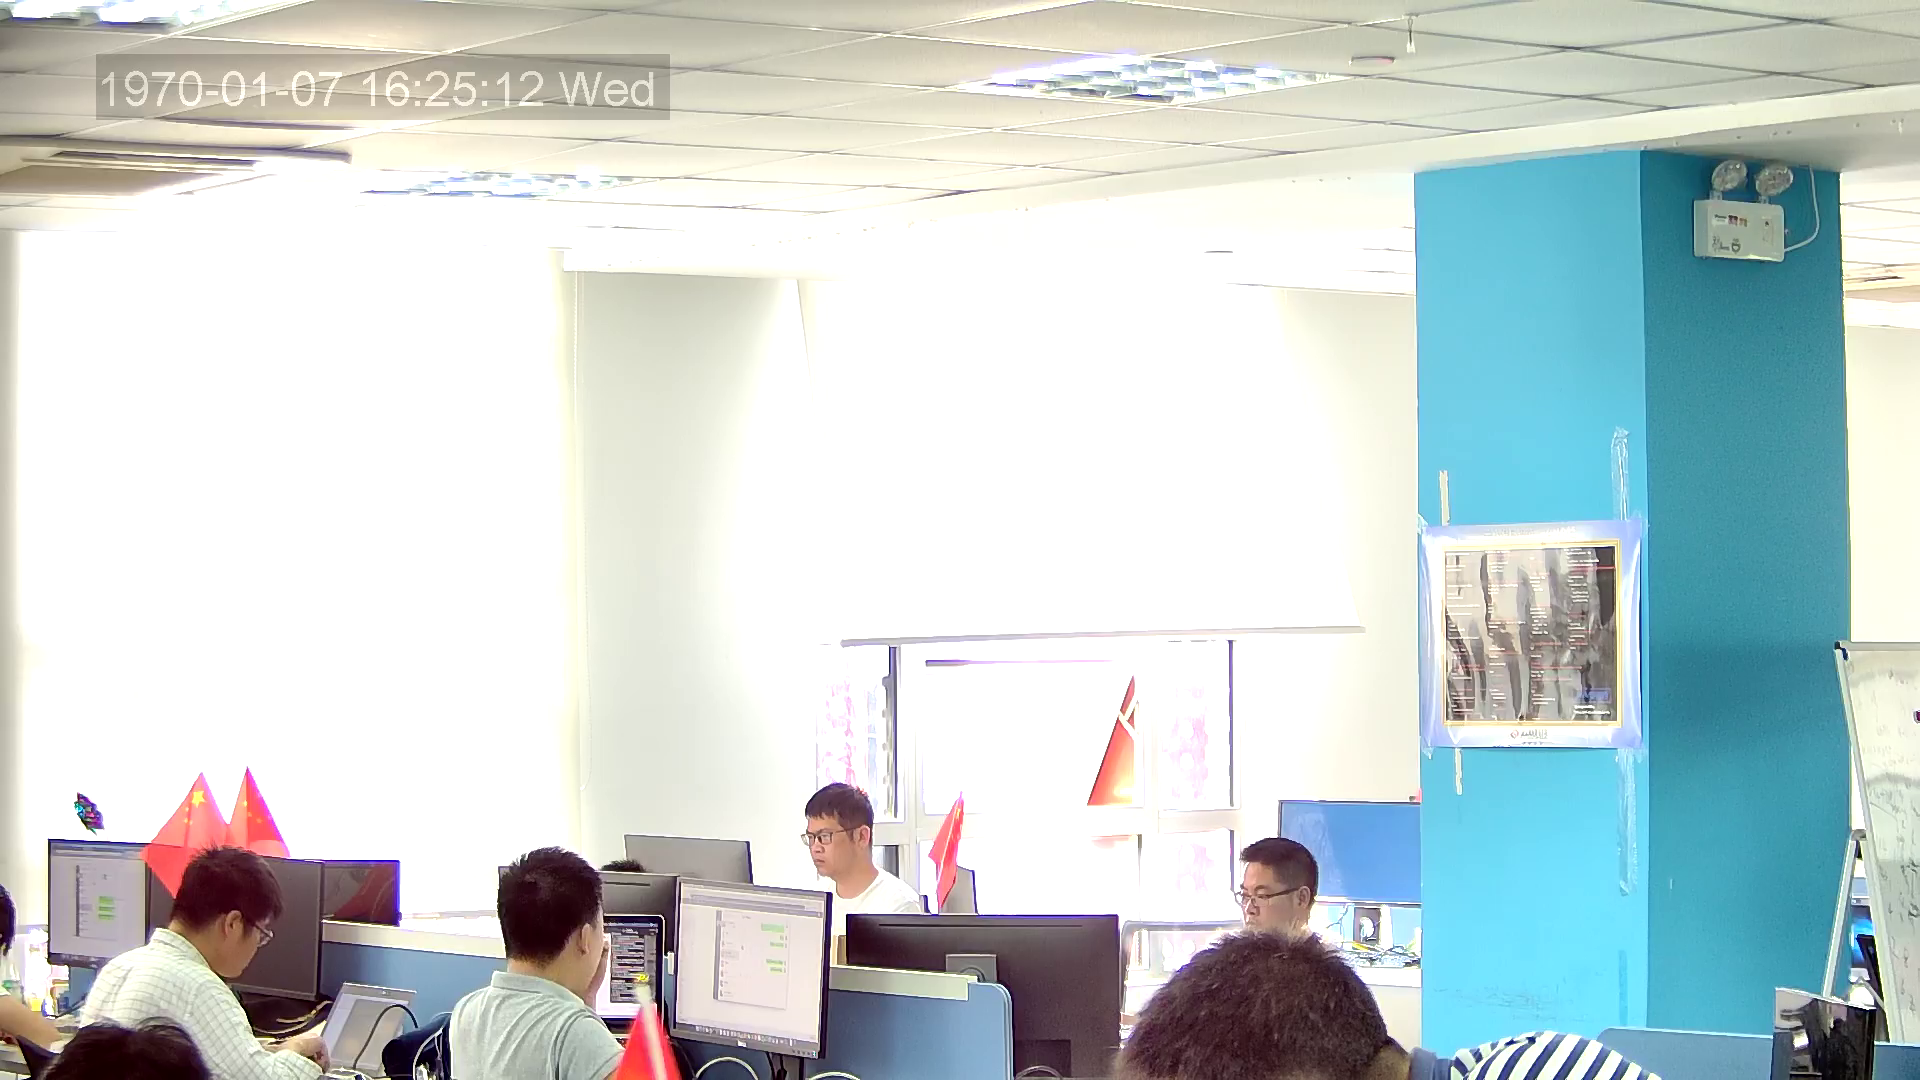bill: (1427, 533, 1642, 750)
